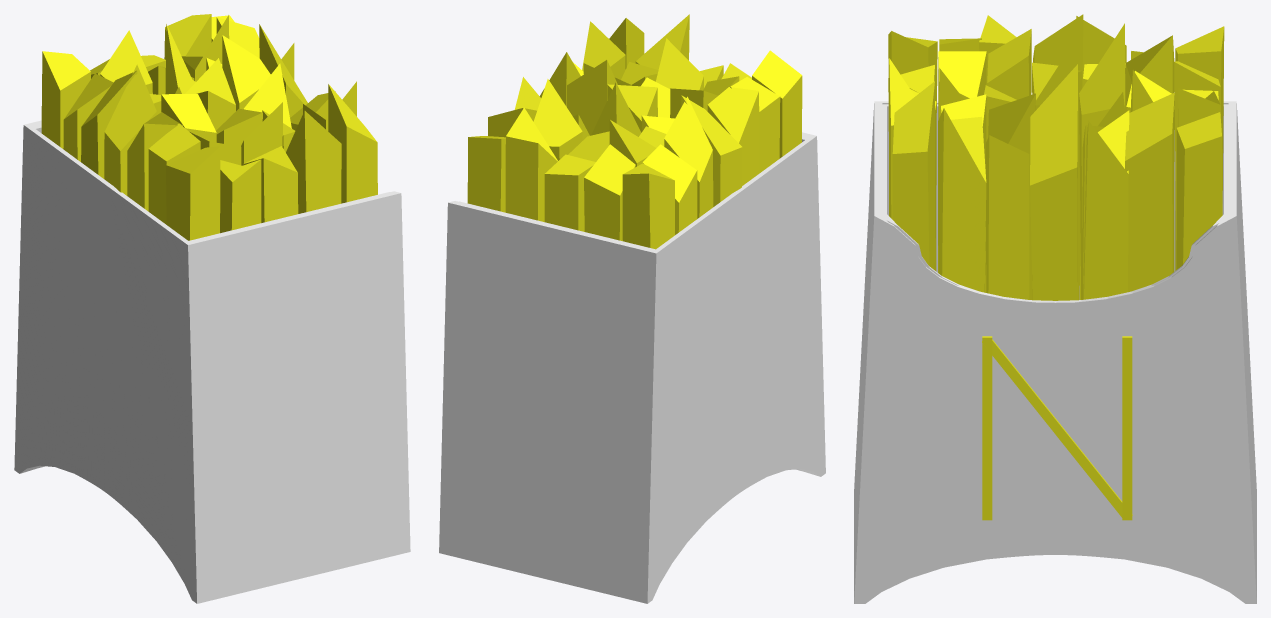
The model's file is fries.glb.
3 views of the same model, side by side, from view 1: azimuth 30°, elevation 25°; view 2: azimuth 150°, elevation 25°; view 3: azimuth 270°, elevation 25° (orthographic). The views are drawn at different scales.
Visible parts, largest first — view 1: Outerbox, FrenchFry, InnerBox; view 2: Outerbox, FrenchFry; view 3: Outerbox, FrenchFry, Logo, InnerBox.
Part boxes in pixels (x1=…): Outerbox: x1=14, y1=120, x2=410, y2=603; FrenchFry: x1=41, y1=14, x2=377, y2=240; InnerBox: x1=31, y1=124, x2=389, y2=241; Outerbox: x1=439, y1=132, x2=825, y2=603; FrenchFry: x1=467, y1=14, x2=802, y2=249; Outerbox: x1=854, y1=101, x2=1256, y2=603; FrenchFry: x1=888, y1=14, x2=1224, y2=300; Logo: x1=982, y1=336, x2=1132, y2=520; InnerBox: x1=882, y1=104, x2=1228, y2=301.
Size of the model in its own units: 1.37 by 2.83 by 2.
